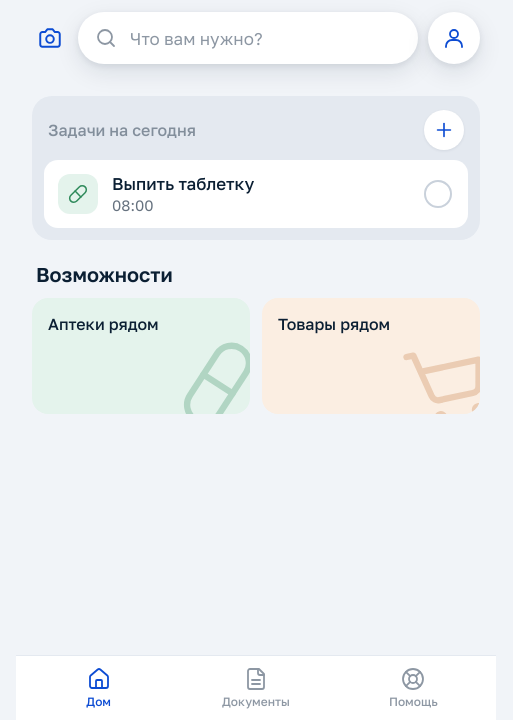
Test case: App › переключает вкладки нижнего меню
The width and height of the screenshot is (513, 720).
Click the button "Документы": (256, 688) [177,662,335,714]
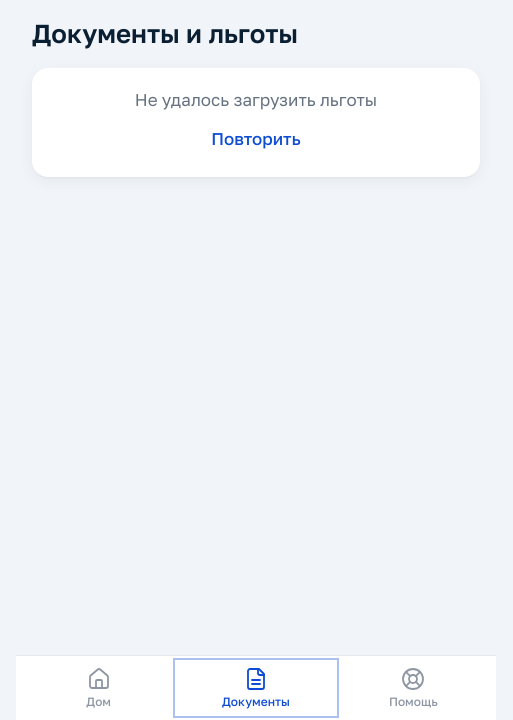
Result: the heading "Документы и льготы" is shown at [32,18,298,49]
Result: the heading "Задачи на сегодня" is gone
Click the button "Дом": (99, 688) [20,662,177,714]
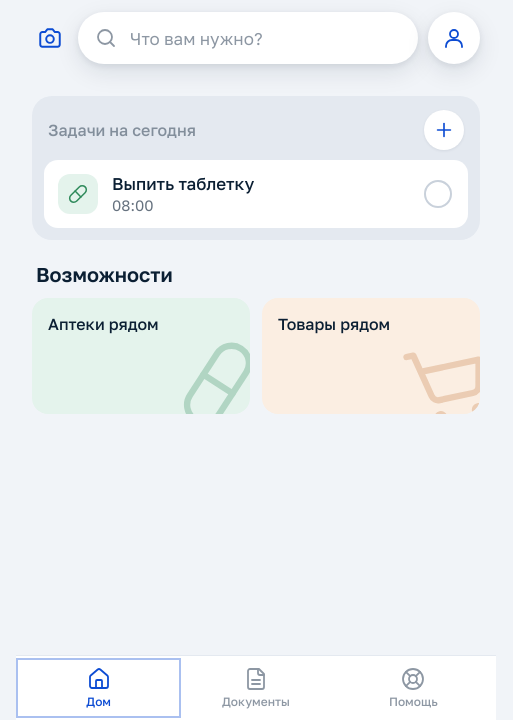
Result: the text "Выпить таблетку" is shown at [112,173,254,194]
